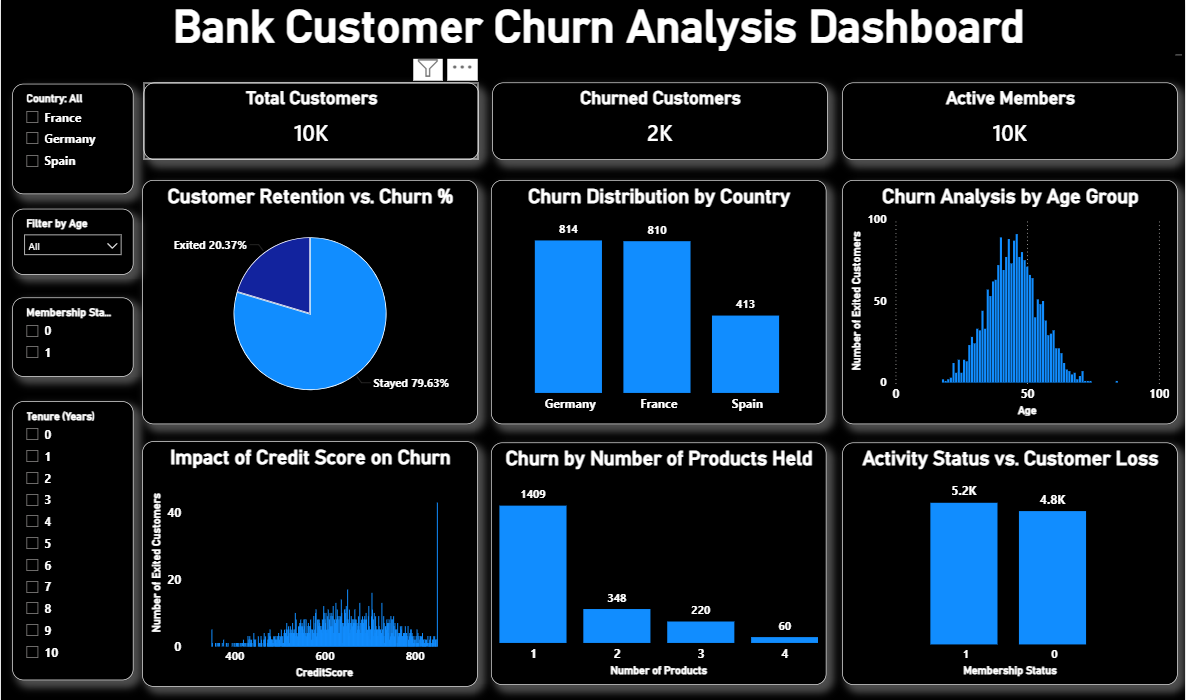

This screenshot's page, from the dashboard's own definition file:
{"tool":"powerbi","page":{"name":"Page 1","canvas":[1579,1020],"ordinal":0},"visuals":[{"type":"cardVisual","title":"Total Customers","fields":{"Data":["CountNonNull(cleaned_dataset_for_visualization.CustomerId)"]},"box":[189.2,110.8,447.1,102.9],"z":0},{"type":"cardVisual","title":"Churned Customers","fields":{"Data":["Sum(cleaned_dataset_for_visualization.Exited)"]},"box":[654.9,110.8,447.1,102.9],"z":1000},{"type":"cardVisual","title":"Active Members","fields":{"Data":["CountNonNull(cleaned_dataset_for_visualization.IsActiveMember)"]},"box":[1122.1,110.8,447.1,102.9],"z":2000},{"type":"slicer","fields":{"Values":["cleaned_dataset_for_visualization.Geography"]},"box":[14.7,111.8,161.8,147.1],"z":3000},{"type":"slicer","fields":{"Values":["cleaned_dataset_for_visualization.IsActiveMember"]},"box":[14.7,397.1,161.8,105.9],"z":4000},{"type":"slicer","fields":{"Values":["cleaned_dataset_for_visualization.Tenure"]},"box":[14.7,535.3,161.8,372.1],"z":5000},{"type":"pieChart","title":"Customer Retention vs. Churn %","fields":{"Y":["CountNonNull(cleaned_dataset_for_visualization.Stayed/Exited)"],"Category":["cleaned_dataset_for_visualization.Stayed/Exited"]},"box":[188.2,240.6,447.1,325.7],"z":6000},{"type":"clusteredColumnChart","title":"Churn Distribution by Country","fields":{"Category":["cleaned_dataset_for_visualization.Geography"],"Y":["CountNonNull(cleaned_dataset_for_visualization.Stayed/Exited)"]},"box":[654,240.6,447.1,325.7],"z":7000},{"type":"columnChart","title":"Churn Analysis by Age Group","fields":{"Category":["cleaned_dataset_for_visualization.Age"],"Y":["CountNonNull(cleaned_dataset_for_visualization.Stayed/Exited)"]},"box":[1121.1,240.6,447.1,325.7],"z":8000},{"type":"columnChart","title":"Impact of Credit Score on Churn","fields":{"Category":["cleaned_dataset_for_visualization.CreditScore"],"Y":["CountNonNull(cleaned_dataset_for_visualization.Stayed/Exited)"]},"box":[188.2,587.8,447.1,327.1],"z":9000},{"type":"clusteredColumnChart","title":"Churn by Number of Products Held","fields":{"Category":["cleaned_dataset_for_visualization.NumOfProducts"],"Y":["CountNonNull(cleaned_dataset_for_visualization.Stayed/Exited)"]},"box":[654,590.6,447.1,322.9],"z":10000},{"type":"clusteredColumnChart","title":"Activity Status vs. Customer Loss","fields":{"Y":["CountNonNull(cleaned_dataset_for_visualization.Stayed/Exited)"],"Category":["cleaned_dataset_for_visualization.IsActiveMember"]},"box":[1121.1,590.6,447.1,322.9],"z":11000},{"type":"textbox","title":"Bank Customer Churn Analysis Dashboard","box":[14.3,0,1564.3,78.6],"z":12000},{"type":"slicer","fields":{"Values":["cleaned_dataset_for_visualization.Age (bins)"]},"box":[14.7,277.9,161.8,88.2],"z":13000}]}

Visuals, with their boxes on the page's 1579x1020 design canvas (x1, y1, x2, y2). These are canvas units, not pixel positions in the 1186x700 screenshot, which may show the page scaled, cropped or inside an application window:
"Total Customers" cardVisual: detection(189, 111, 636, 214)
"Churned Customers" cardVisual: detection(655, 111, 1102, 214)
"Active Members" cardVisual: detection(1122, 111, 1569, 214)
slicer - cleaned_dataset_for_visualization.Geography: detection(15, 112, 176, 259)
slicer - cleaned_dataset_for_visualization.IsActiveMember: detection(15, 397, 176, 503)
slicer - cleaned_dataset_for_visualization.Tenure: detection(15, 535, 176, 907)
"Customer Retention vs. Churn %" pieChart: detection(188, 241, 635, 566)
"Churn Distribution by Country" clusteredColumnChart: detection(654, 241, 1101, 566)
"Churn Analysis by Age Group" columnChart: detection(1121, 241, 1568, 566)
"Impact of Credit Score on Churn" columnChart: detection(188, 588, 635, 915)
"Churn by Number of Products Held" clusteredColumnChart: detection(654, 591, 1101, 914)
"Activity Status vs. Customer Loss" clusteredColumnChart: detection(1121, 591, 1568, 914)
"Bank Customer Churn Analysis Dashboard" textbox: detection(14, 0, 1579, 79)
slicer - cleaned_dataset_for_visualization.Age (bins): detection(15, 278, 176, 366)
